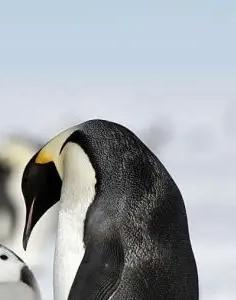Emperor Penguin: (0, 88, 229, 300), (0, 88, 17, 300)
